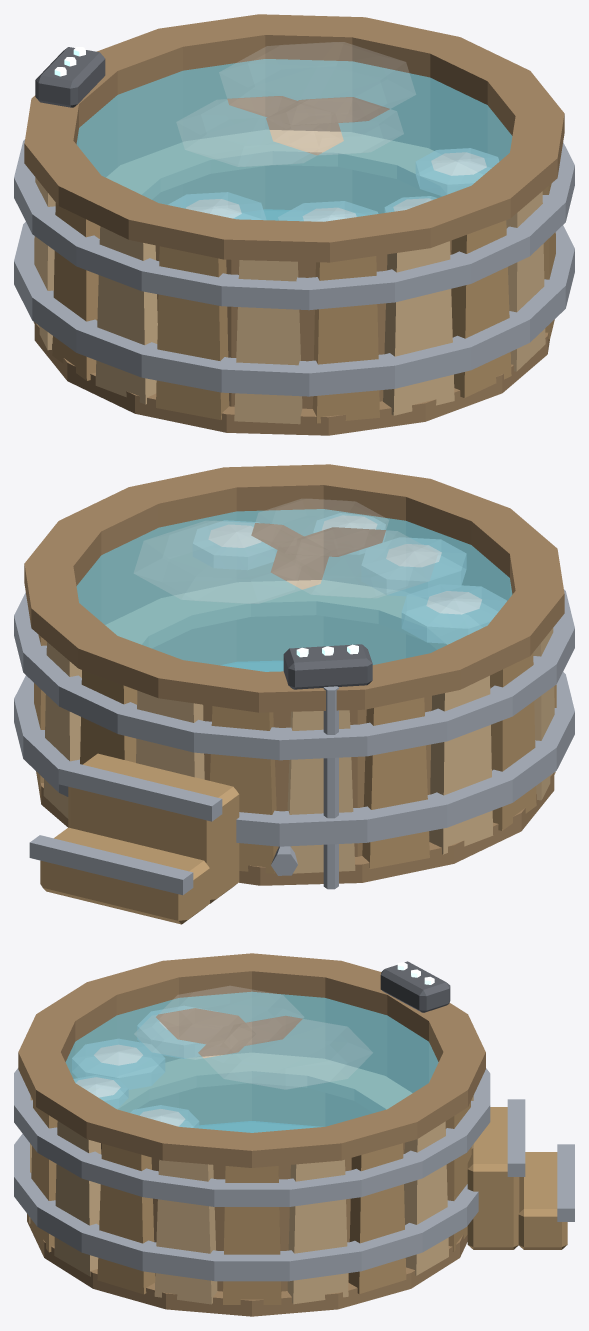
The model's file is HotTub.fbx.
3 views of the same model, one above another, from view 1: azimuth 30°, elevation 25°; view 2: azimuth 150°, elevation 25°; view 3: azimuth 270°, elevation 25° (orthographic). The views are drawn at different scales.
Visible parts, largest first — view 1: HotTub.Shell, HotTub.Water, HotTub.Steel, HotTub.StavesPale, HotTub.StavesMid, HotTub.Steam, HotTub.Foam, HotTub.Panel; view 2: HotTub.Shell, HotTub.Water, HotTub.Steel, HotTub.StavesMid, HotTub.StavesPale, HotTub.Steam, HotTub.Foam, HotTub.Panel; view 3: HotTub.Shell, HotTub.Water, HotTub.Steel, HotTub.StavesMid, HotTub.StavesPale, HotTub.Steam, HotTub.Foam, HotTub.Panel.
Boxes of the visible parts, left/top/right/bottom form: HotTub.Shell: left=24, top=14, right=564, bottom=435; HotTub.Water: left=76, top=59, right=512, bottom=221; HotTub.Steel: left=14, top=139, right=574, bottom=396; HotTub.StavesPale: left=33, top=130, right=545, bottom=424; HotTub.StavesMid: left=34, top=183, right=555, bottom=423; HotTub.Steam: left=176, top=42, right=415, bottom=166; HotTub.Foam: left=169, top=148, right=498, bottom=221; HotTub.Panel: left=35, top=47, right=105, bottom=107; HotTub.Shell: left=24, top=464, right=564, bottom=885; HotTub.Water: left=76, top=509, right=512, bottom=671; HotTub.Steel: left=14, top=589, right=574, bottom=895; HotTub.StavesMid: left=34, top=634, right=556, bottom=924; HotTub.StavesPale: left=43, top=580, right=555, bottom=873; HotTub.Steam: left=134, top=499, right=437, bottom=603; HotTub.Foam: left=208, top=515, right=506, bottom=643; HotTub.Panel: left=283, top=644, right=372, bottom=689; HotTub.Shell: left=18, top=953, right=485, bottom=1316; HotTub.Water: left=65, top=991, right=438, bottom=1132; HotTub.Steel: left=14, top=1068, right=574, bottom=1281; HotTub.StavesMid: left=30, top=1101, right=567, bottom=1304; HotTub.StavesPale: left=29, top=1053, right=473, bottom=1304; HotTub.Steam: left=134, top=986, right=372, bottom=1089; HotTub.Foam: left=72, top=1010, right=198, bottom=1127; HotTub.Panel: left=380, top=961, right=450, bottom=1012.
Bounding box in the file's own units: 6.52 × 3.04 × 7.68.
